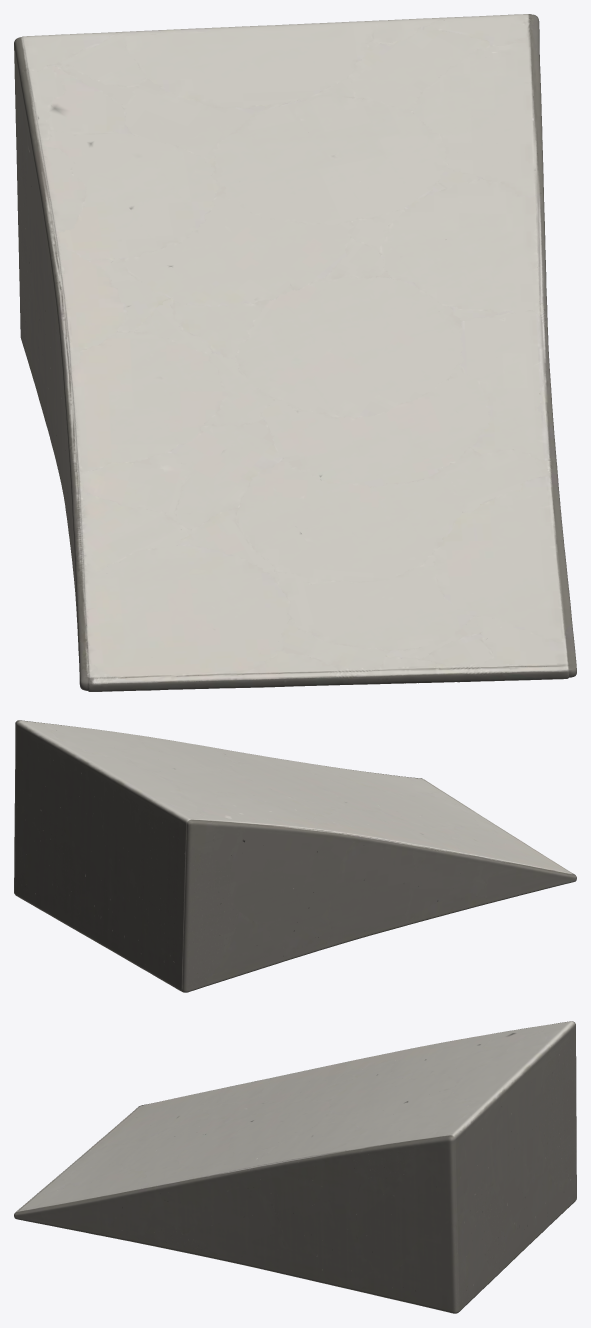
File: model-27-ramp-wide.glb
3 views of the same model, one above another, from view 1: azimuth 30°, elevation 25°; view 2: azimuth 150°, elevation 25°; view 3: azimuth 270°, elevation 25° (orthographic). The views are drawn at different scales.
Visible parts, largest first — view 1: node_0; view 2: node_0; view 3: node_0.
Part boxes in pixels (x1,y1,x2,y2): node_0: (14,14,576,691); node_0: (14,720,576,992); node_0: (14,1021,576,1313).
Size of the model in its own units: 0.953 by 0.387 by 1.11.
Materials: 1 (1 with a texture image).
